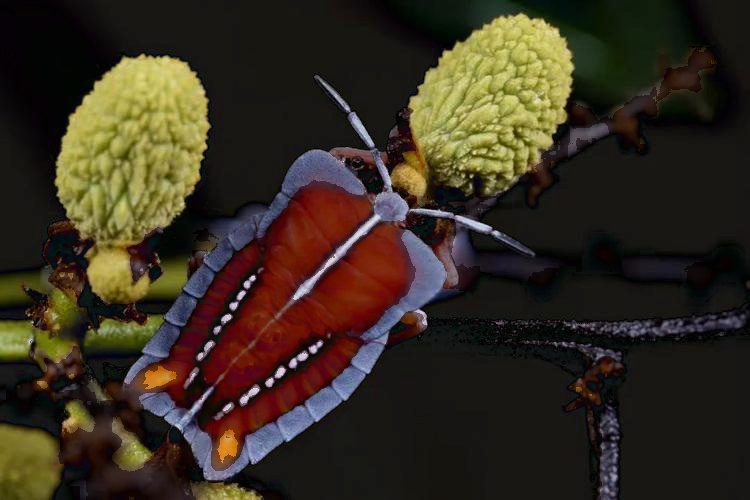Stink_Bug: (139, 148, 424, 488)
